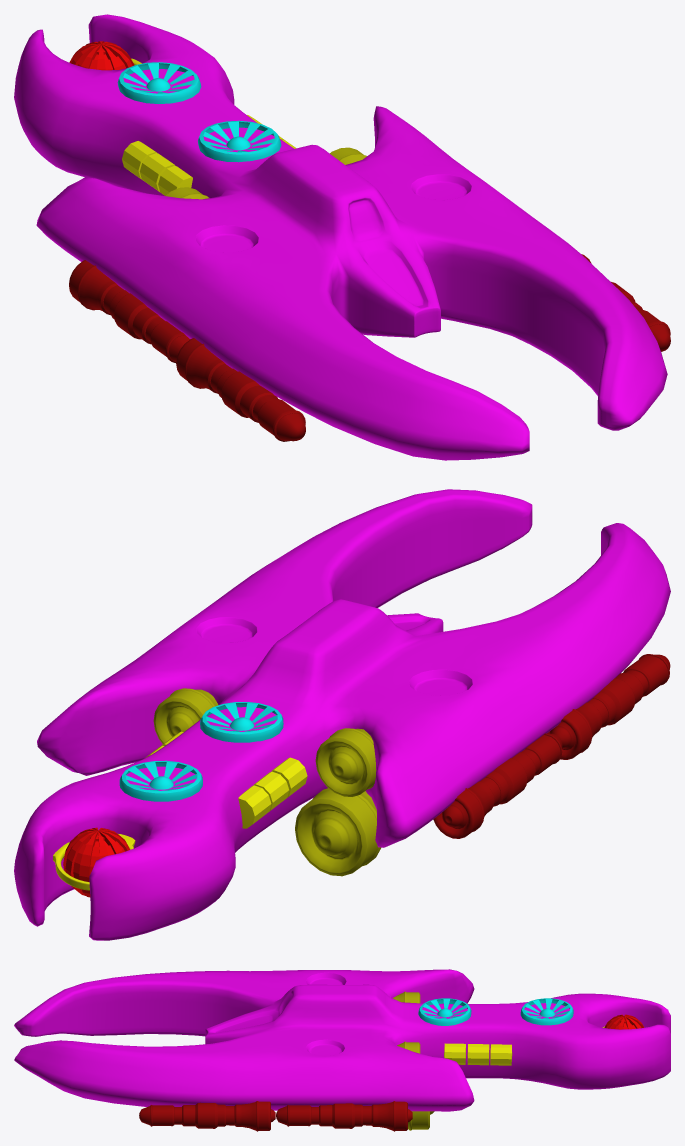
File: jefe_low.fbx
3 renders of one model, top to bottom at view 1: azimuth 30°, elevation 25°; view 2: azimuth 150°, elevation 25°; view 3: azimuth 270°, elevation 25°, orthographic. The views are drawn at different scales.
Parts seen in each view (by area): view 1: base_low, misil_low, elices_low, laterales_low, cuerpo_low, motores_low; view 2: base_low, motores_low, misil_low, elices_low, laterales_low, cuerpo_low, circ_low; view 3: base_low, misil_low, elices_low, laterales_low, motores_low, cuerpo_low.
Part boxes in pixels (left/top/right/bottom): base_low: left=14, top=14, right=667, bottom=460; misil_low: left=69, top=254, right=670, bottom=441; elices_low: left=117, top=62, right=281, bottom=162; laterales_low: left=122, top=115, right=296, bottom=195; cuerpo_low: left=69, top=41, right=134, bottom=70; motores_low: left=165, top=147, right=366, bottom=199; base_low: left=14, top=489, right=670, bottom=940; motores_low: left=153, top=688, right=380, bottom=876; misil_low: left=433, top=654, right=670, bottom=838; elices_low: left=119, top=702, right=283, bottom=801; laterales_low: left=145, top=731, right=307, bottom=828; cuerpo_low: left=63, top=827, right=129, bottom=897; circ_low: left=53, top=834, right=135, bottom=890; base_low: left=14, top=969, right=670, bottom=1111; misil_low: left=139, top=1101, right=412, bottom=1131; elices_low: left=418, top=998, right=573, bottom=1025; laterales_low: left=444, top=1043, right=512, bottom=1065; motores_low: left=393, top=991, right=434, bottom=1130; cuerpo_low: left=604, top=1014, right=644, bottom=1029.
Bounding box in the file's own units: 65.37 × 27.56 × 143.
